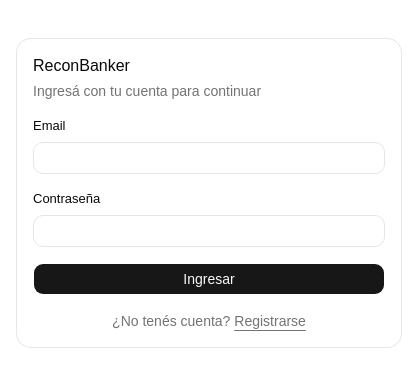
Login page › shows per-field required errors when submitting empty
Click the button "Ingresar" at (209, 279), box x1=33 y1=263 x2=385 y2=295
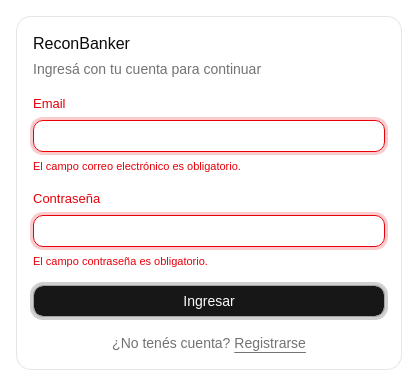
Result: the text "El campo correo electrónico es obligatorio." is shown at x1=33 y1=158 x2=241 y2=174
Result: the text "El campo contraseña es obligatorio." is shown at x1=33 y1=253 x2=208 y2=269
